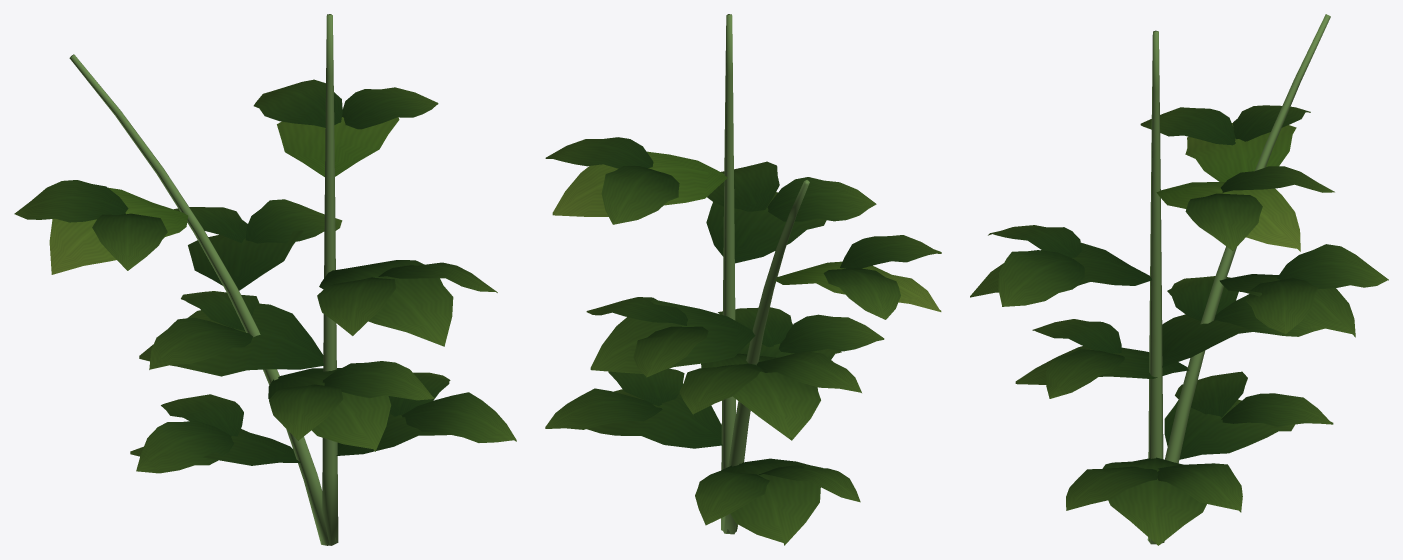
File: rose-05-lod.glb
3 renders of one model, left to right at view 1: azimuth 30°, elevation 25°; view 2: azimuth 150°, elevation 25°; view 3: azimuth 270°, elevation 25°, orthographic. The views are drawn at different scales.
Parts seen in each view (by area): view 1: rose_stage_05_leaf_veins.009, rose_stage_05_stem_fibres.009, rose_stage_05_young_leaf.009; view 2: rose_stage_05_leaf_veins.009, rose_stage_05_stem_fibres.009, rose_stage_05_young_leaf.009; view 3: rose_stage_05_leaf_veins.009, rose_stage_05_stem_fibres.009, rose_stage_05_young_leaf.009.
Boxes of the visible parts, box(x1,y1,x2,y2) form: rose_stage_05_leaf_veins.009: box(14, 79, 516, 473); rose_stage_05_stem_fibres.009: box(69, 14, 338, 545); rose_stage_05_young_leaf.009: box(49, 117, 399, 274); rose_stage_05_leaf_veins.009: box(545, 137, 941, 545); rose_stage_05_stem_fibres.009: box(721, 14, 809, 534); rose_stage_05_young_leaf.009: box(552, 151, 941, 311); rose_stage_05_leaf_veins.009: box(970, 105, 1388, 545); rose_stage_05_stem_fibres.009: box(1147, 14, 1330, 544); rose_stage_05_young_leaf.009: box(1156, 123, 1300, 251).
Size of the model in its own units: 0.218 by 0.2655 by 0.1972.
Materials: 3 (2 with a texture image).
